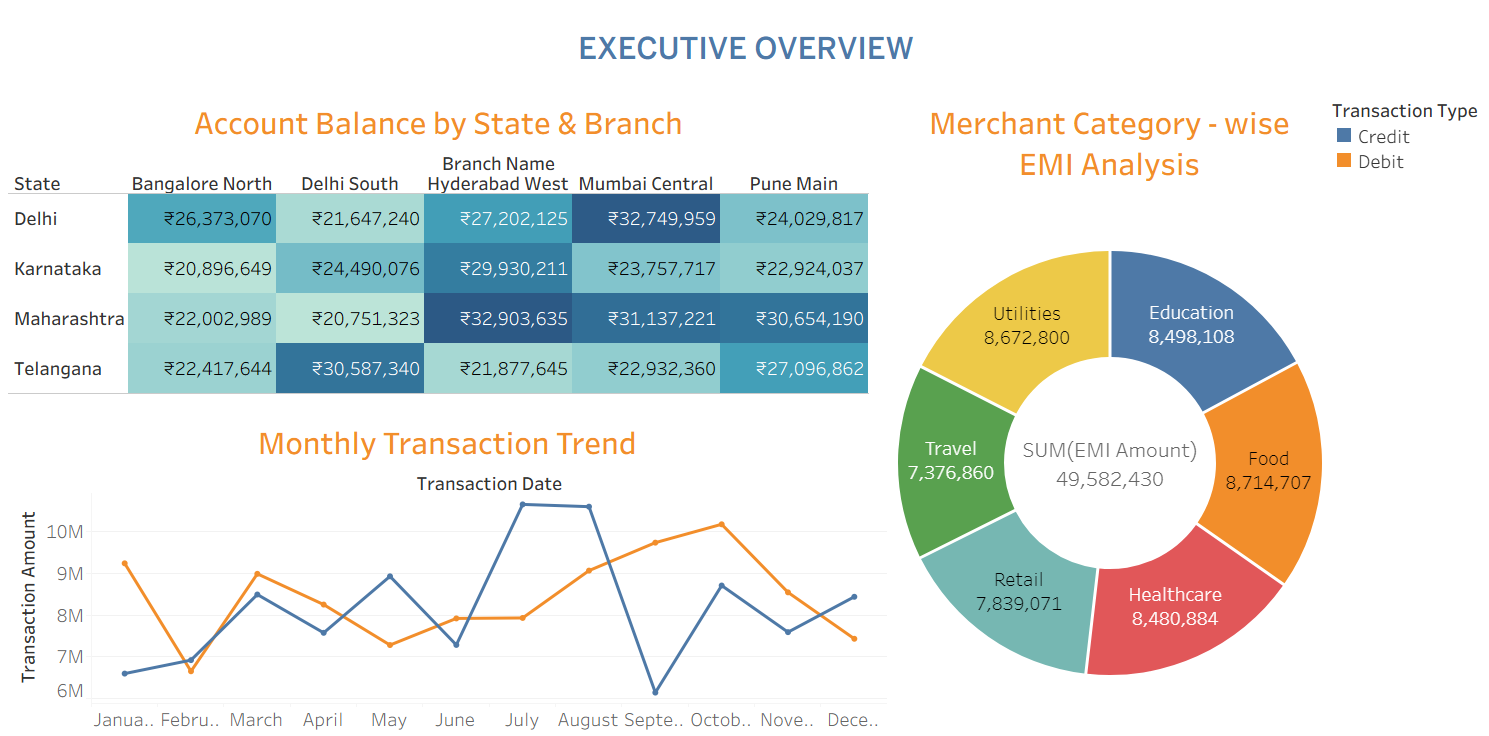

Layout of this report page (visuals, bound fields, positions):
{"tool":"tableau","page":{"name":"Dashboard 2","canvas":[1000,1000],"units":"permille","ordinal":1},"visuals":[{"type":"text","box":[5,10.7,990,115.3]},{"type":"worksheet","title":"Sheet 9","mark":"Automatic","rows":["Customer ID"],"cols":["Transaction Amount"],"box":[5,126,543.6,431.6]},{"type":"worksheet","title":"Sheet 7","mark":"Circle","box":[548.6,126,346.6,863.3]},{"type":"legend","title":"Sheet 7","param":"[federated.1l0fd5g0equtmm1236foh0vm7iet].[none:Branch Name:nk]","box":[895.3,126,99.8,213.1]},{"type":"parameter","param":"[Parameters].[Parameter 1]","box":[895.3,339.1,99.8,111.3]},{"type":"legend","title":"Sheet 8","param":"[federated.1l0fd5g0equtmm1236foh0vm7iet].[none:Branch Name:nk]","box":[895.3,450.4,99.8,213.1]},{"type":"worksheet","title":"Sheet 8","mark":"Automatic","rows":["Transaction Amount"],"cols":["Transaction Type","Branch Name"],"box":[5,557.6,543.6,431.6]}]}

Visuals, with their boxes on the dashboard's canvas, which has no fixed pixel size, in thousandths of its width and height (x1, y1, x2, y2). These are canvas units, not pixel positions in the 1489x736 screenshot, which may show the page scaled, cropped or inside an application window:
text: select_region(5, 11, 995, 126)
"Sheet 9" worksheet: select_region(5, 126, 549, 558)
"Sheet 7" worksheet (Circle marks): select_region(549, 126, 895, 989)
"Sheet 7" legend: select_region(895, 126, 995, 339)
parameter: select_region(895, 339, 995, 450)
"Sheet 8" legend: select_region(895, 450, 995, 664)
"Sheet 8" worksheet: select_region(5, 558, 549, 989)
